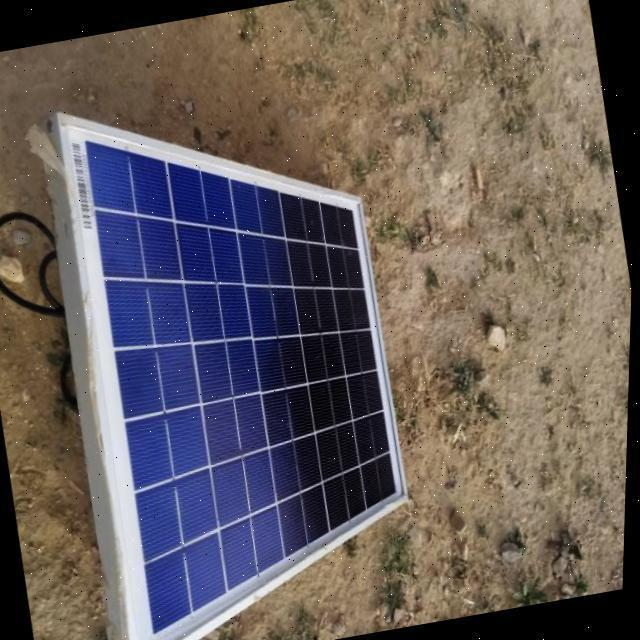Normal Solar Panel: (43, 66, 440, 640)
